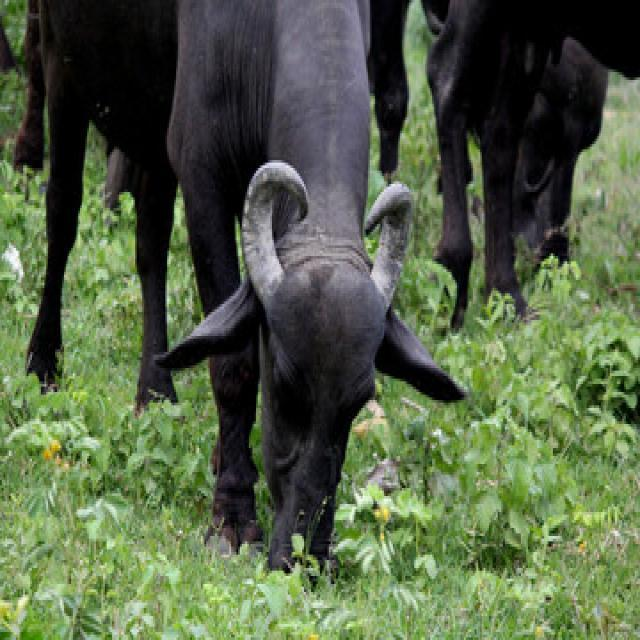Buffalo: (158, 2, 473, 609)
